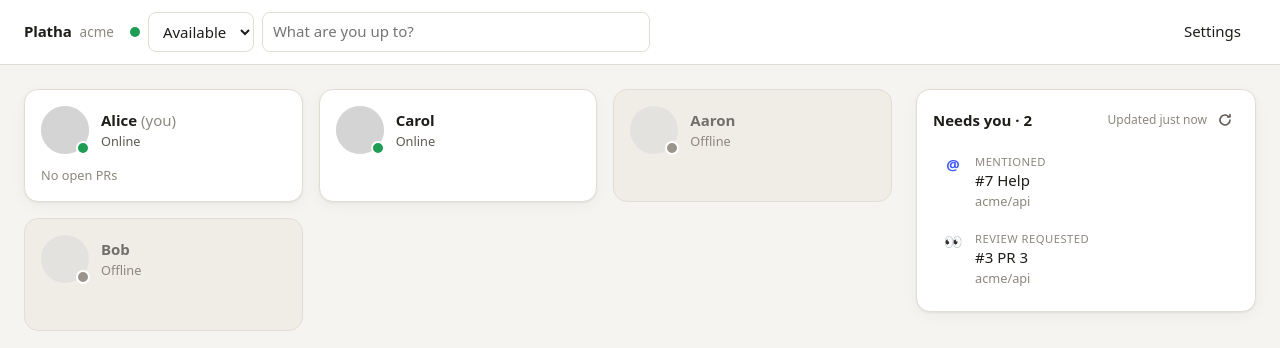
needs you › clicking a needs-you row marks it seen and removes it on next render
This screenshot has width=1280, height=348.
Check: the heading "Needs you · 2" is shown, box [933,111,1032,129]
Click the button "@ Mentioned #7 Help acme/api": x=1010, y=162 [933,146,1239,218]
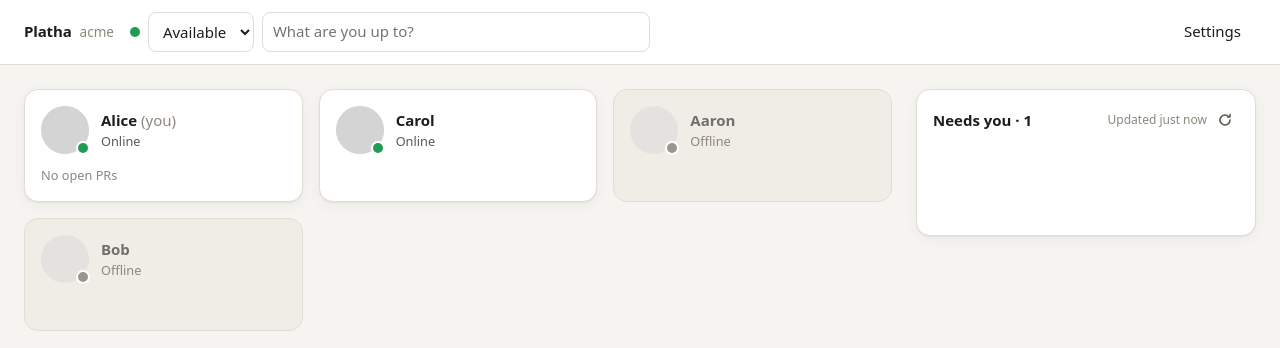
Check: the button "#7 Help" is gone
Check: the heading "Needs you · 1" is shown, box [933,111,1032,129]
